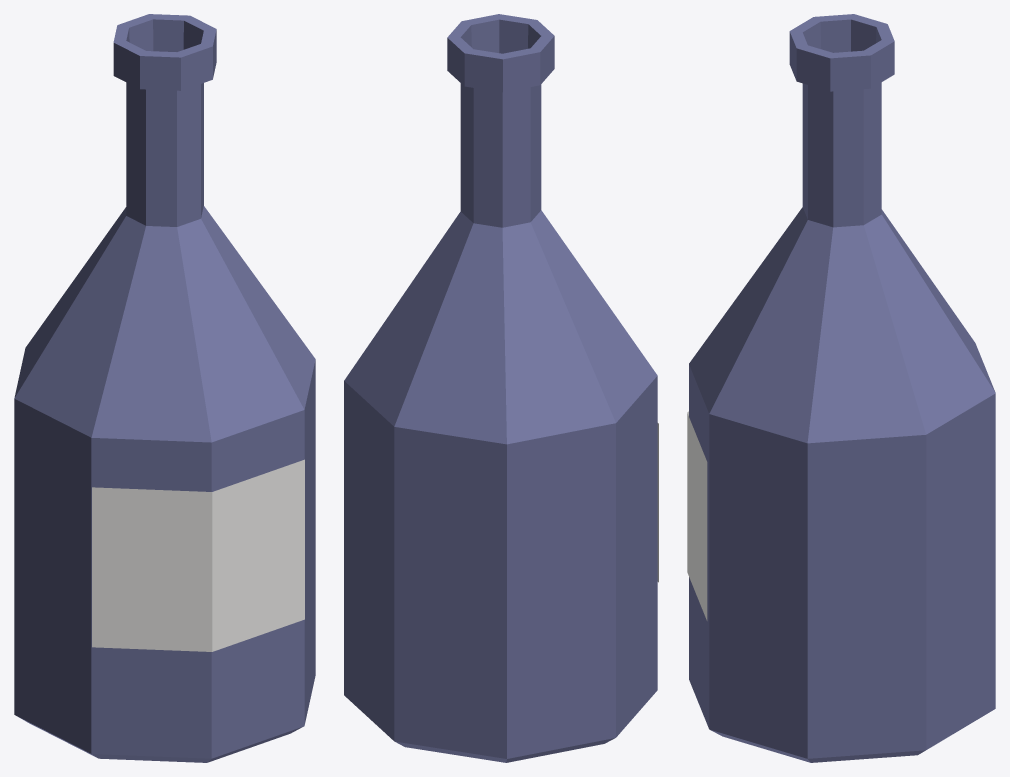
Rendered from Bottle_4.fbx.
3 renders of one model, left to right at view 1: azimuth 30°, elevation 25°; view 2: azimuth 150°, elevation 25°; view 3: azimuth 270°, elevation 25°, orthographic.
Parts seen in each view (by area): view 1: Bottle_4; view 2: Bottle_4; view 3: Bottle_4.
Part boxes in pixels (x1,y1,x2,y2): Bottle_4: (14,14,315,762); Bottle_4: (344,14,658,762); Bottle_4: (687,14,995,762).
Bounding box in the file's own units: 10.82 × 10.88 × 26.
